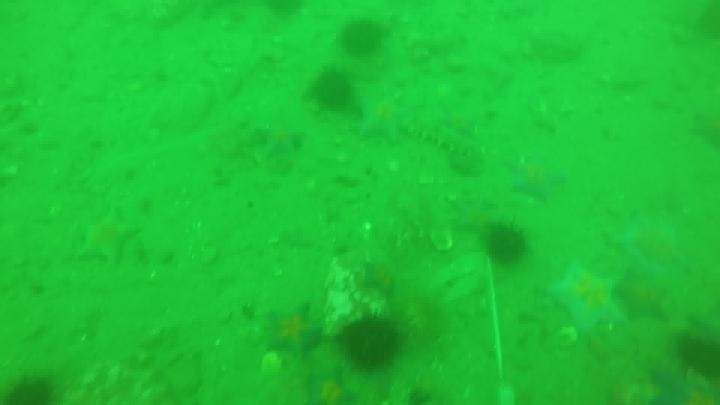echinus: (339, 314, 403, 371), (674, 331, 720, 381), (483, 222, 530, 268), (309, 68, 355, 112), (338, 18, 387, 59), (3, 373, 57, 405), (263, 1, 306, 19)
holothurian: (402, 114, 486, 175)
starfish: (546, 262, 625, 335), (612, 213, 691, 274), (76, 208, 141, 266), (262, 303, 325, 360), (614, 270, 672, 324), (646, 364, 718, 404), (507, 156, 566, 203), (356, 93, 410, 143), (302, 367, 358, 405), (451, 199, 502, 237), (358, 258, 402, 300), (255, 123, 306, 159), (687, 109, 720, 152)
